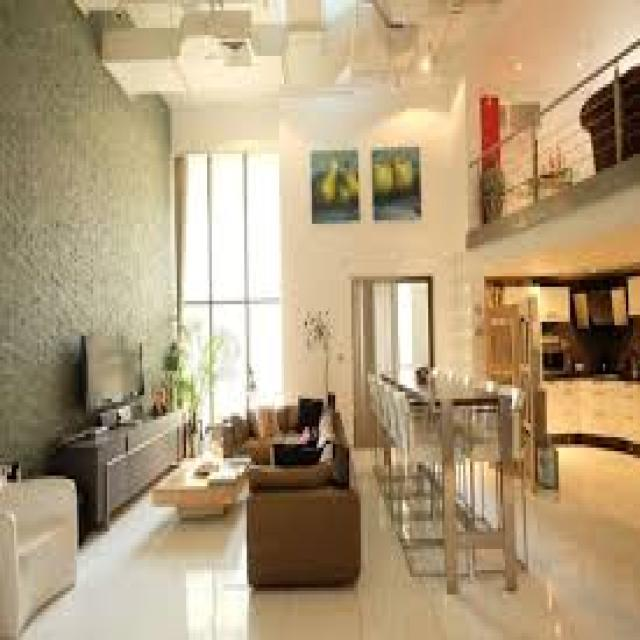Chair: (366, 371, 523, 593), (0, 478, 84, 619)
Sofa: (230, 404, 366, 574)
Table: (158, 436, 246, 522)
